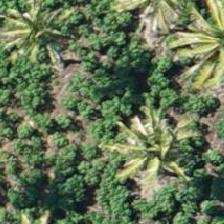coconut_tree: (108, 102, 198, 192), (0, 0, 82, 80)
